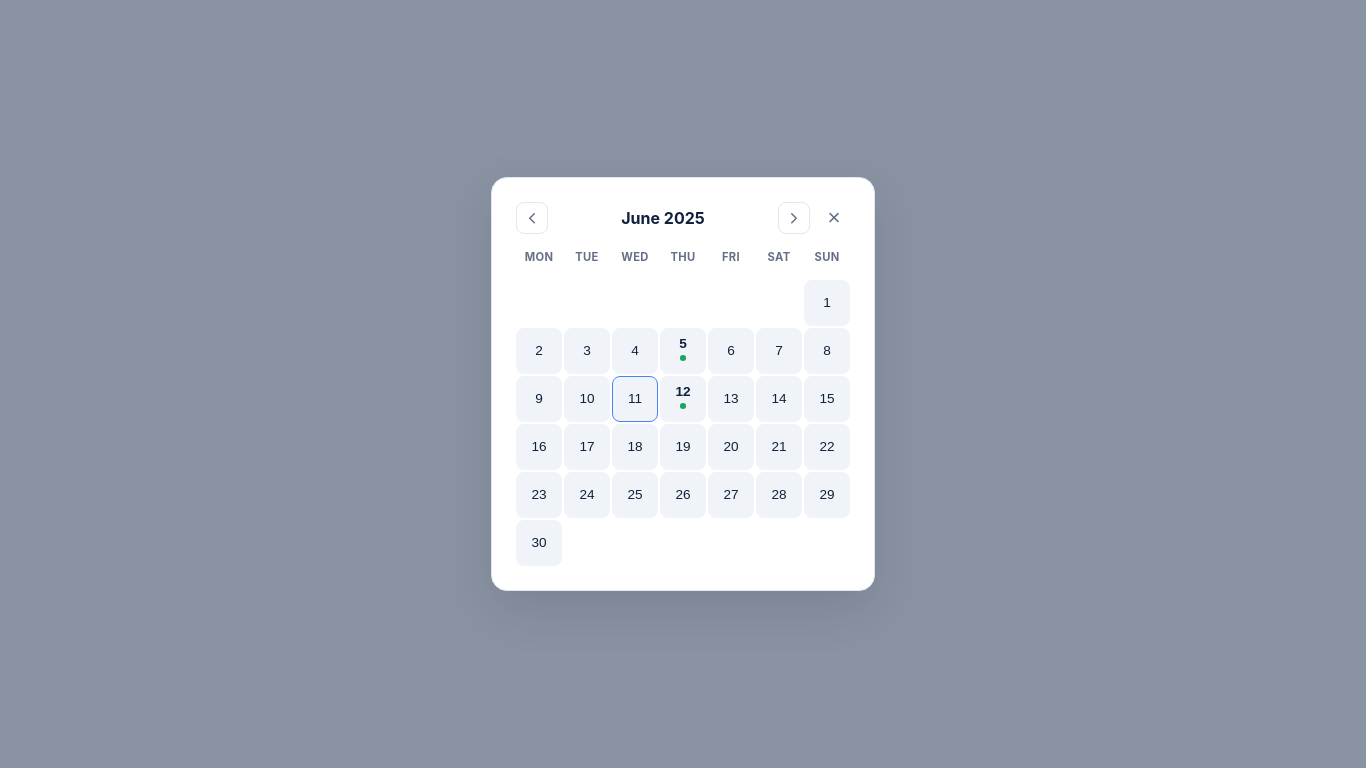
ApplicationCalendarPopover › 9. clicking a date shows the correct applications for that date
Click the cell with class "calendar-cell--day" showing "5". click: (683, 351)
box: x1=660 y1=328 x2=706 y2=374
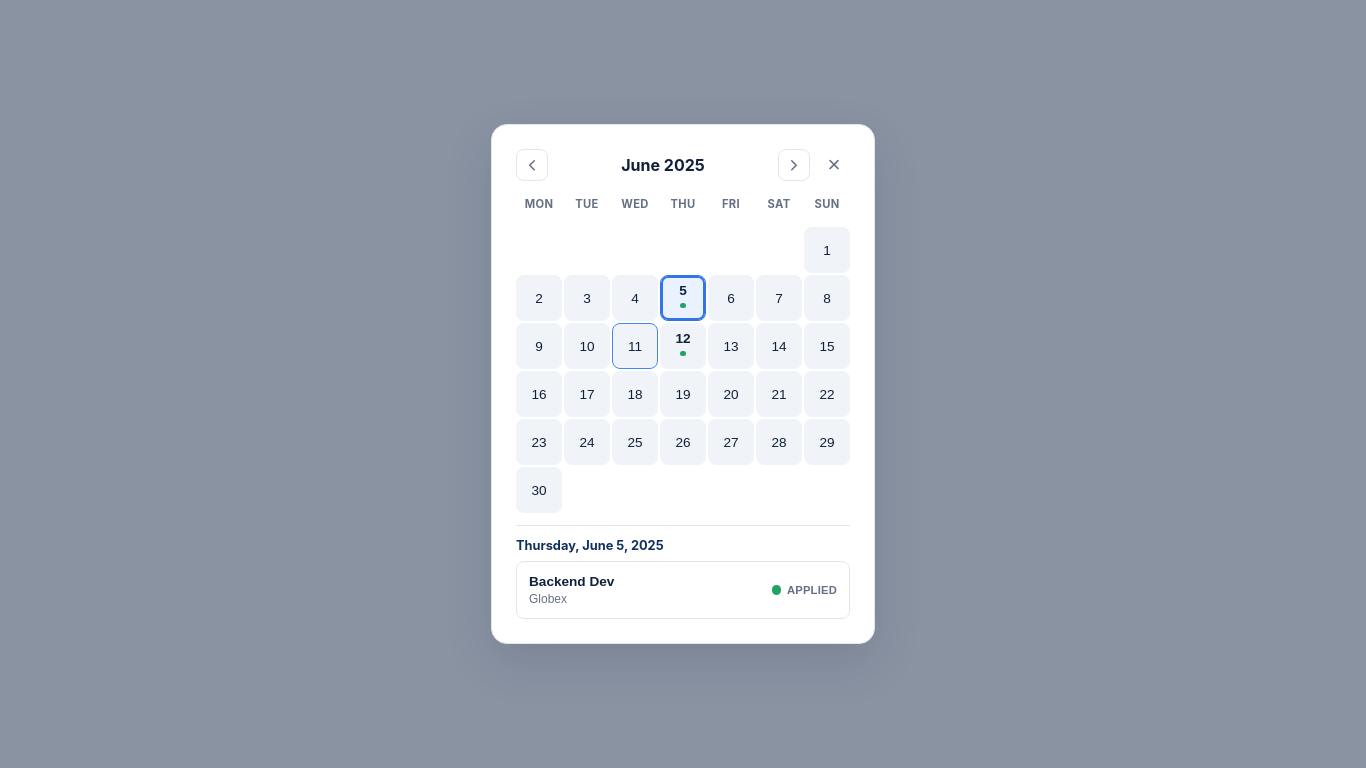
expect the number of list items with class "calendar-app-item" is 1: met, box x1=516 y1=561 x2=850 y2=619
expect the element with class "calendar-day-list" shows "Backend Dev": met, box x1=516 y1=561 x2=850 y2=619
expect the element with class "calendar-day-list" shows "Globex": met, box x1=516 y1=561 x2=850 y2=619
